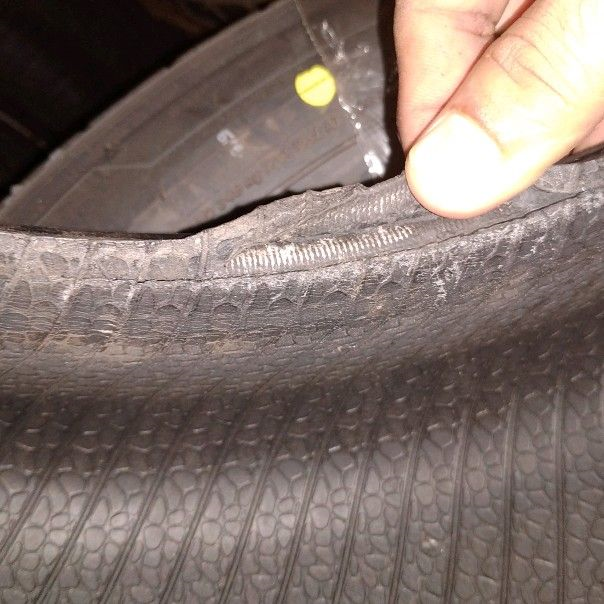bead_damage: (223, 175, 426, 282)
